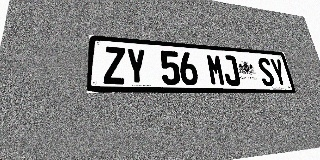5: (160, 50, 181, 85)
6: (178, 52, 199, 85)
J: (221, 55, 241, 86)
M: (206, 54, 226, 86)
S: (256, 57, 276, 86)
Y: (126, 48, 147, 85), (269, 58, 288, 86)
Z: (104, 46, 126, 84)
